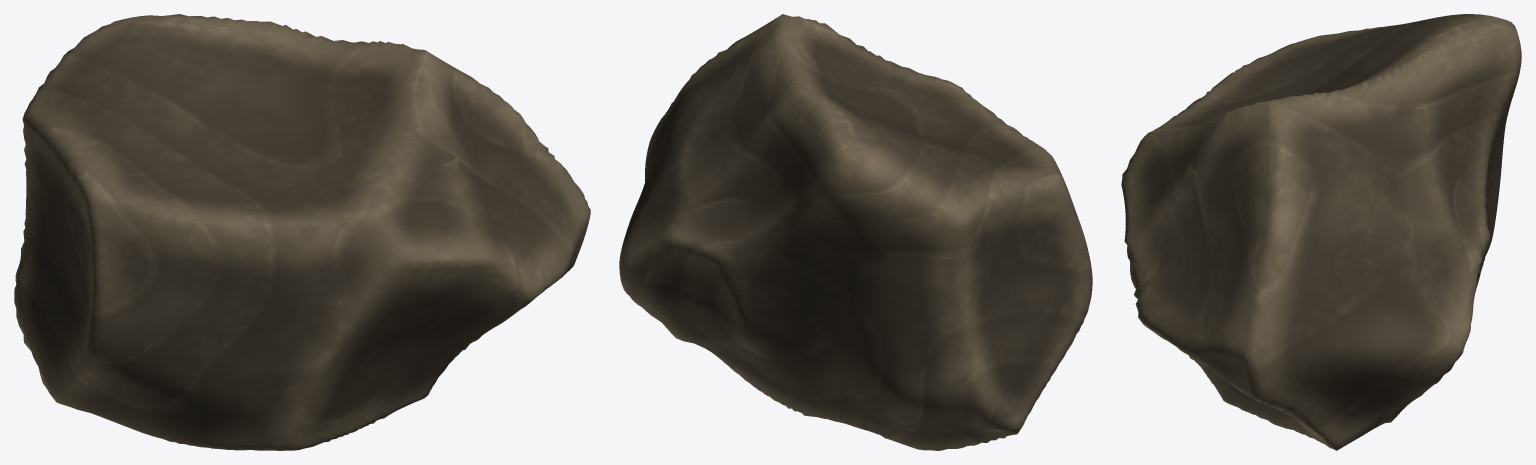
The model's file is sharp_rock_S.fbx.
The picture shows the model from 3 angles, left to right: view 1: azimuth 30°, elevation 25°; view 2: azimuth 150°, elevation 25°; view 3: azimuth 270°, elevation 25°; orthographic projection. The views are drawn at different scales.
Visible parts, largest first — view 1: small_rock_S; view 2: small_rock_S; view 3: small_rock_S.
Part boxes in pixels (bbox=[...]): small_rock_S: bbox=[14, 14, 590, 450]; small_rock_S: bbox=[619, 14, 1092, 450]; small_rock_S: bbox=[1121, 14, 1521, 450].
Bounding box in the file's own units: 583 × 408 × 434.
